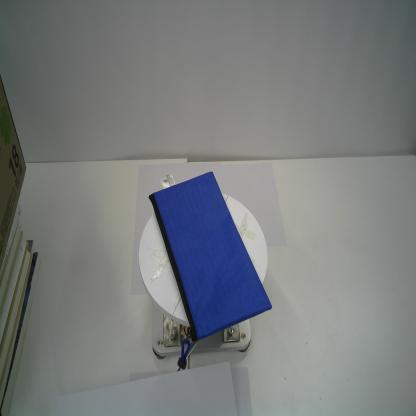Stationery: (148, 171, 272, 372)
